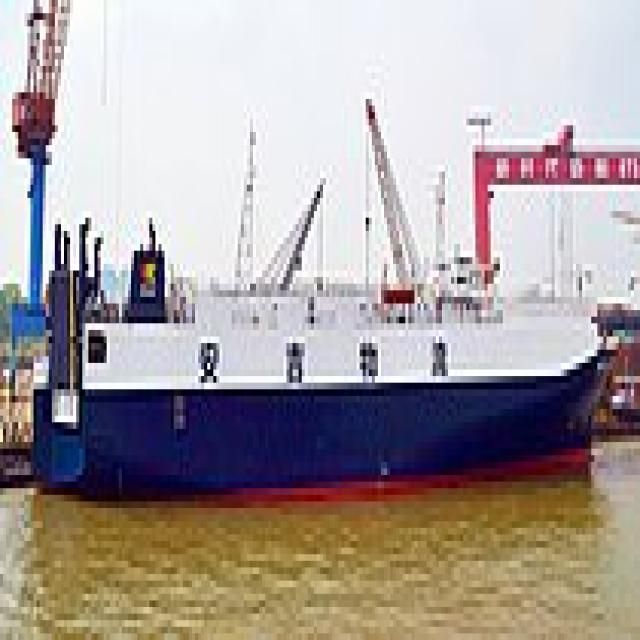Carrier: (21, 198, 619, 495)
